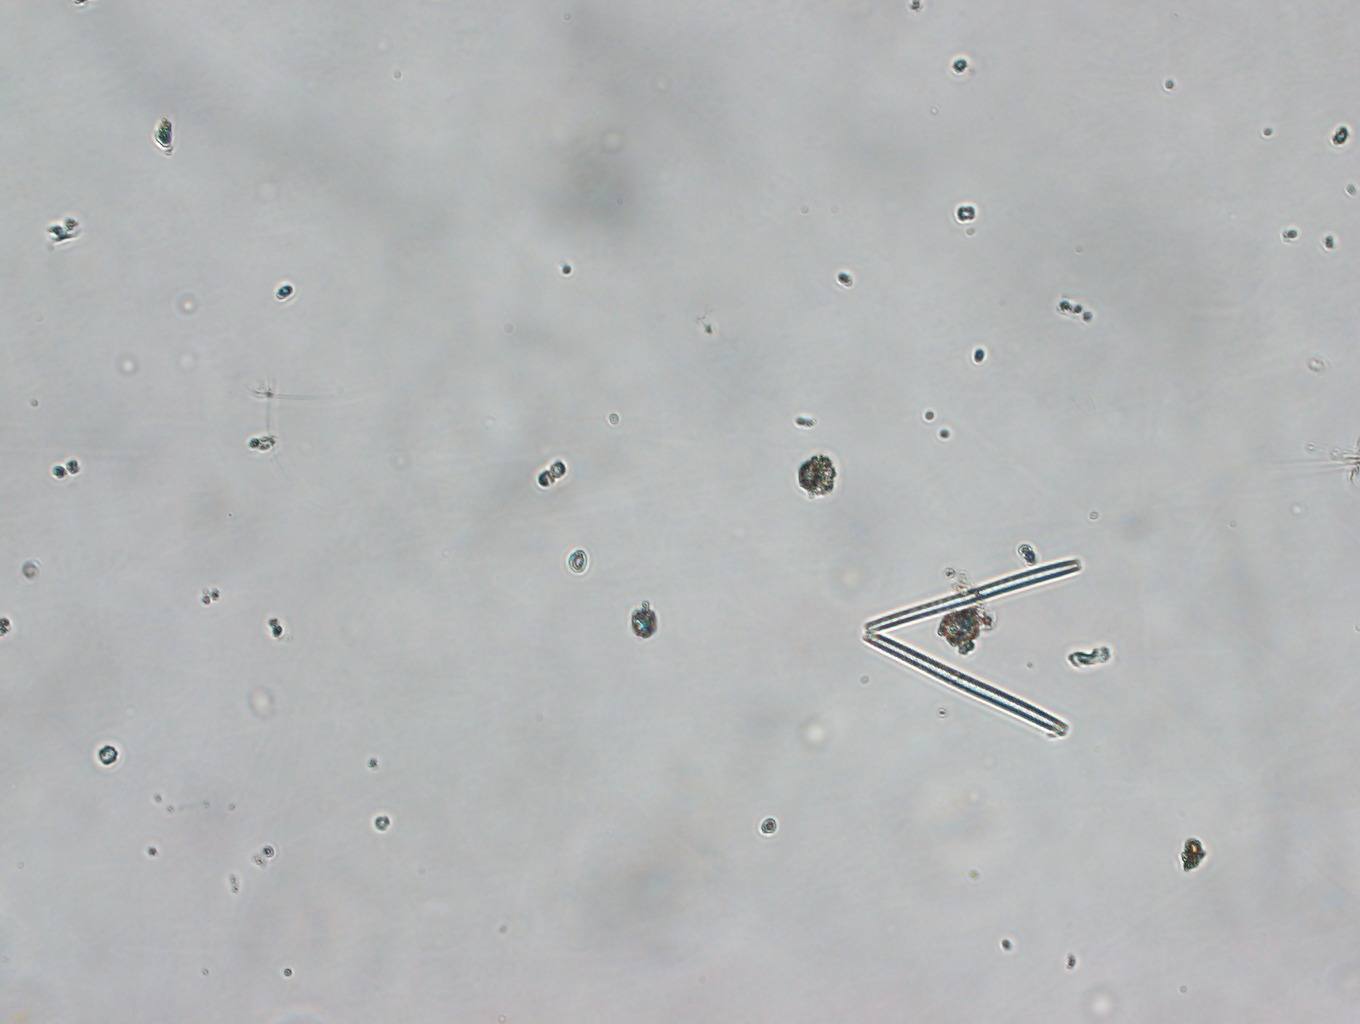thalassionema frauenfeldii: (860, 542, 1097, 767)
